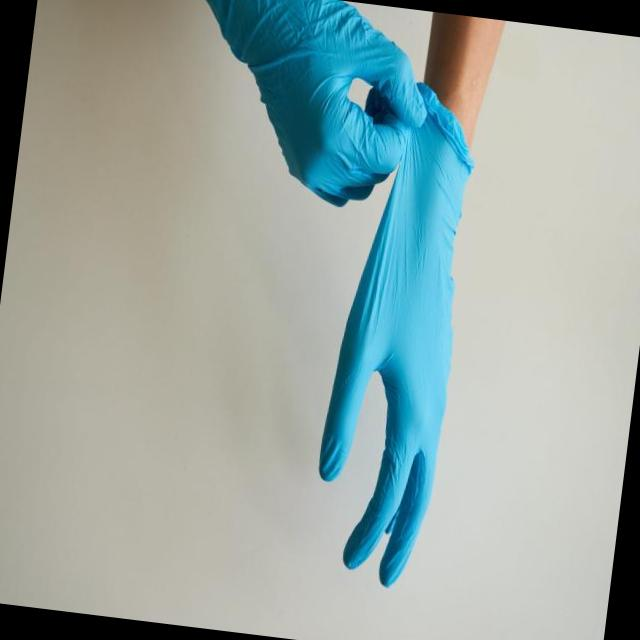Gloves: (299, 114, 522, 620), (178, 0, 437, 203)
